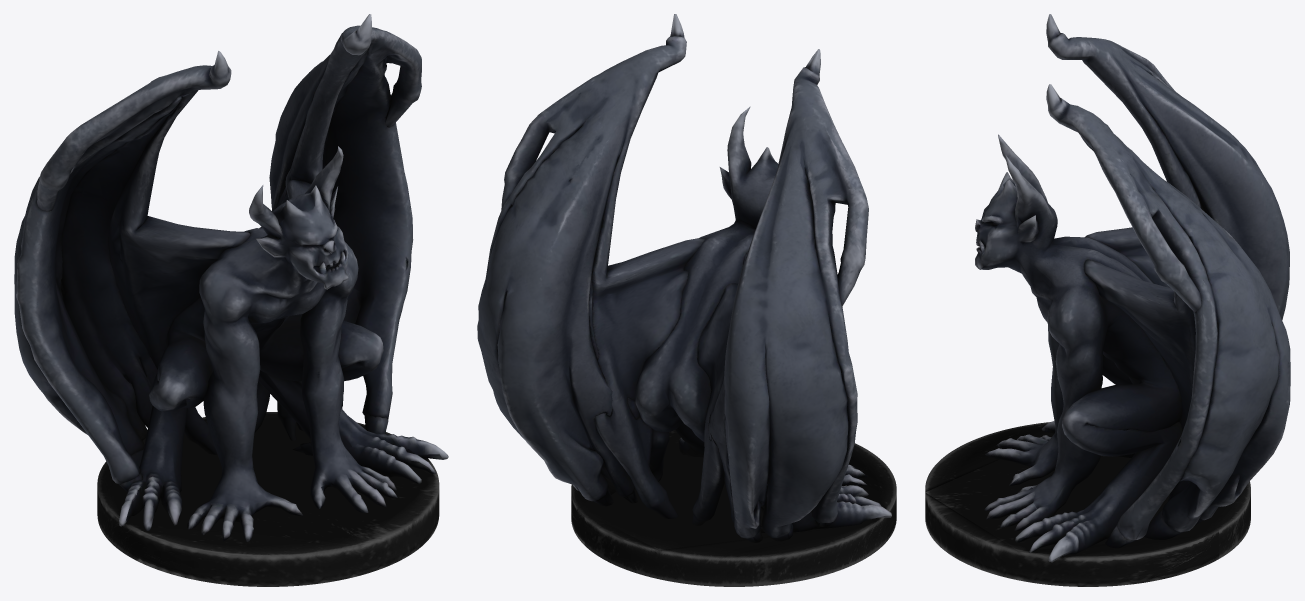
The model's file is MZ4250 - Gargoyle.glb.
3 renders of one model, left to right at view 1: azimuth 30°, elevation 25°; view 2: azimuth 150°, elevation 25°; view 3: azimuth 270°, elevation 25°, orthographic. The views are drawn at different scales.
Visible parts, largest first — view 1: Gargoyle_Updated_Support_Free.001, Gargoyle_Updated_Support_Free.003; view 2: Gargoyle_Updated_Support_Free.001, Gargoyle_Updated_Support_Free.003; view 3: Gargoyle_Updated_Support_Free.001, Gargoyle_Updated_Support_Free.003.
Part boxes in pixels (box(x1,y1,x2,y2)): Gargoyle_Updated_Support_Free.001: box(14, 14, 448, 541); Gargoyle_Updated_Support_Free.003: box(97, 412, 439, 586); Gargoyle_Updated_Support_Free.001: box(477, 14, 891, 542); Gargoyle_Updated_Support_Free.003: box(571, 430, 896, 586); Gargoyle_Updated_Support_Free.001: box(975, 14, 1290, 562); Gargoyle_Updated_Support_Free.003: box(925, 422, 1250, 586).
Size of the model in its own units: 5.83 by 7.04 by 4.95.
Materials: 1 (1 with a texture image).
